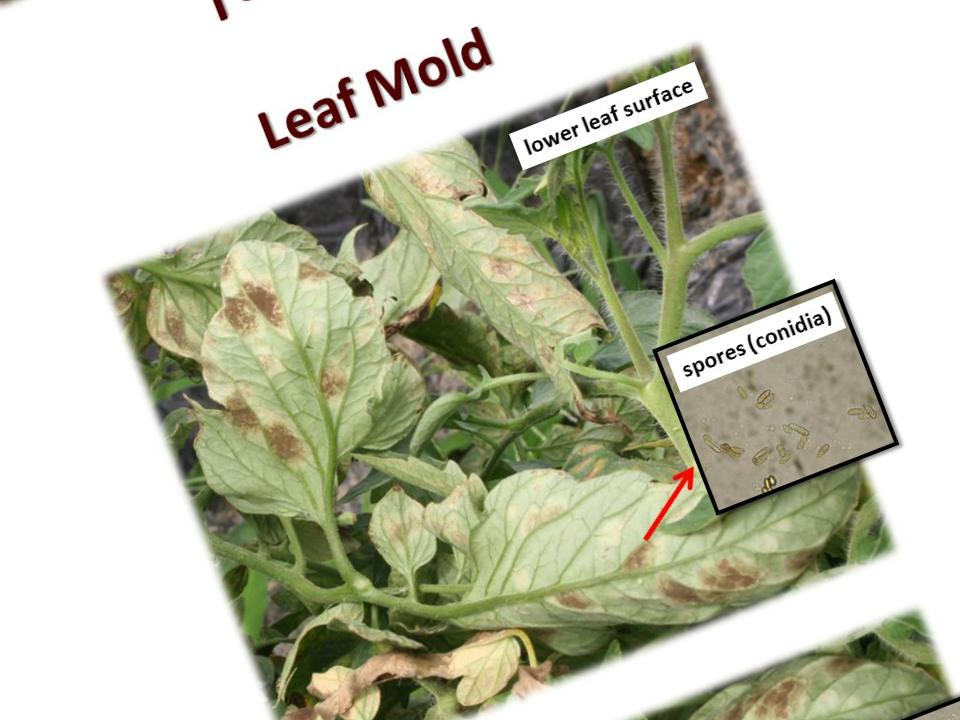Tomato mold leaf: (408, 347, 876, 701), (126, 198, 449, 562), (345, 116, 626, 452), (346, 474, 455, 596)
